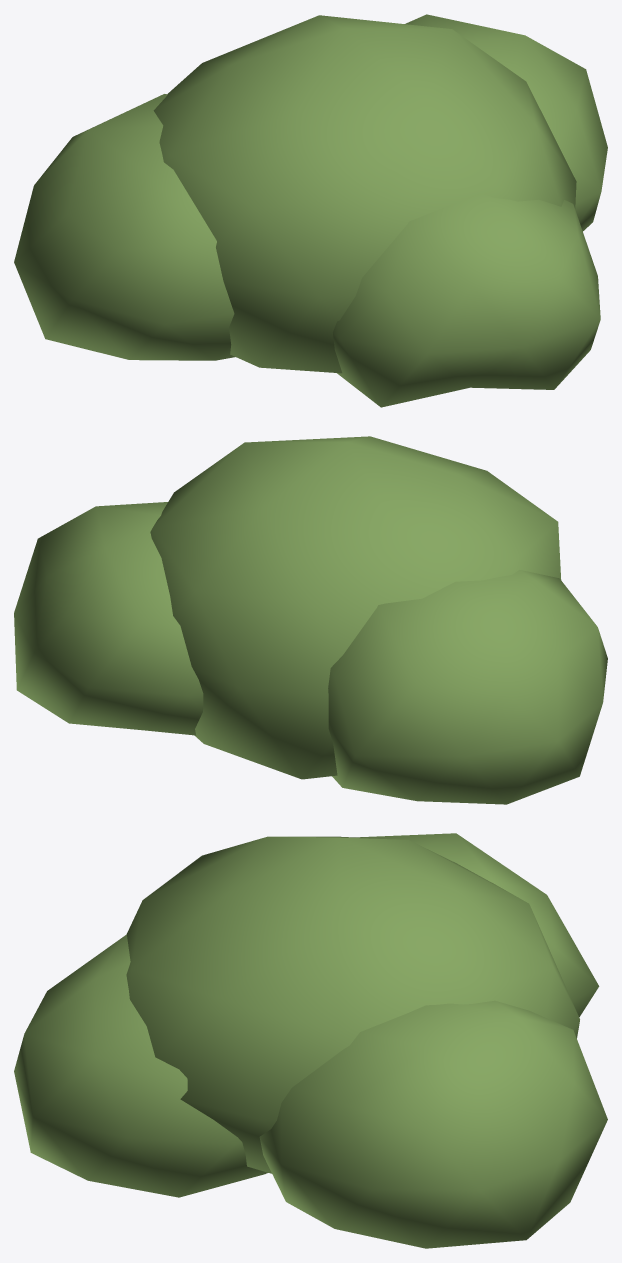
Rendered from bush.glb.
3 views of the same model, one above another, from view 1: azimuth 30°, elevation 25°; view 2: azimuth 150°, elevation 25°; view 3: azimuth 270°, elevation 25° (orthographic). The views are drawn at different scales.
Parts seen in each view (by area): view 1: bush; view 2: bush; view 3: bush.
Part boxes in pixels (x1,y1,x2,y2): bush: (14, 14, 607, 407); bush: (14, 436, 607, 804); bush: (14, 833, 607, 1248).
Size of what is drawn, in the model's own units: 2.33 by 1.07 by 2.05.
